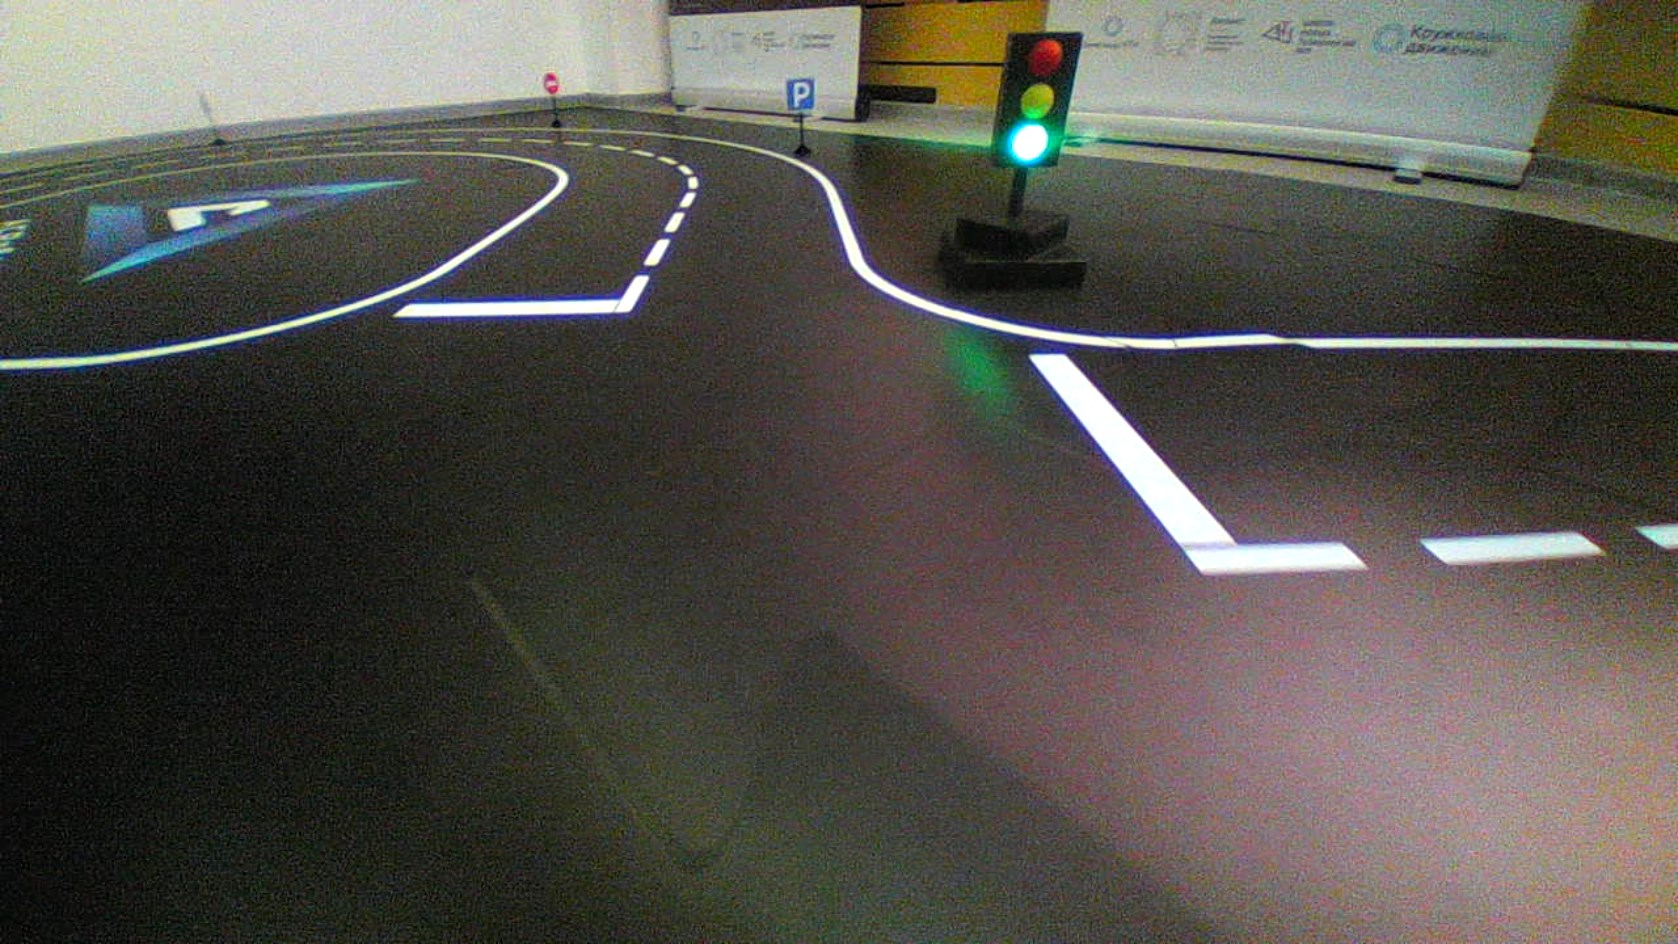trafficlight: (987, 30, 1084, 169)
